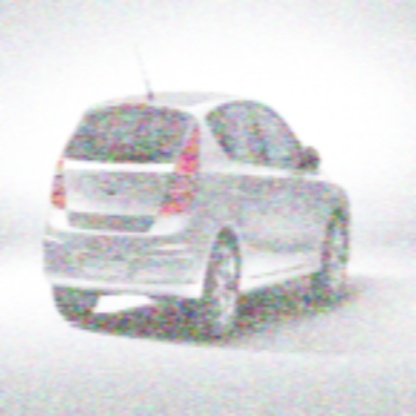Vehicle: (43, 38, 352, 343)
